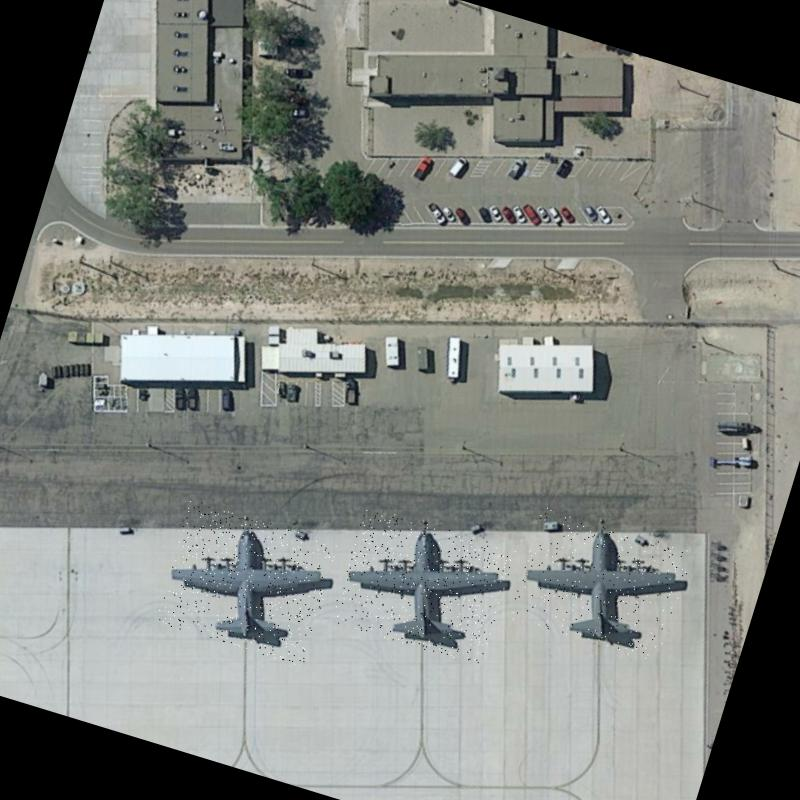A2: (153, 499, 340, 667), (330, 504, 516, 668), (509, 507, 693, 664)
